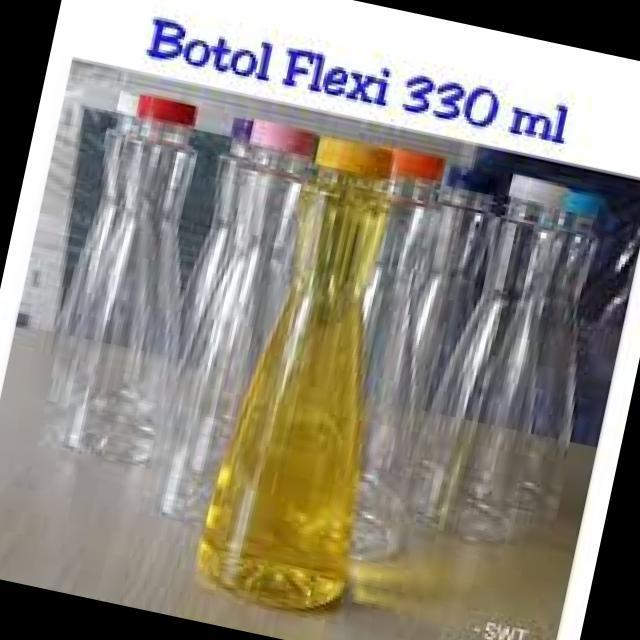good: (178, 133, 422, 637), (134, 98, 342, 546), (25, 87, 243, 490), (410, 165, 594, 548), (350, 154, 532, 534)
